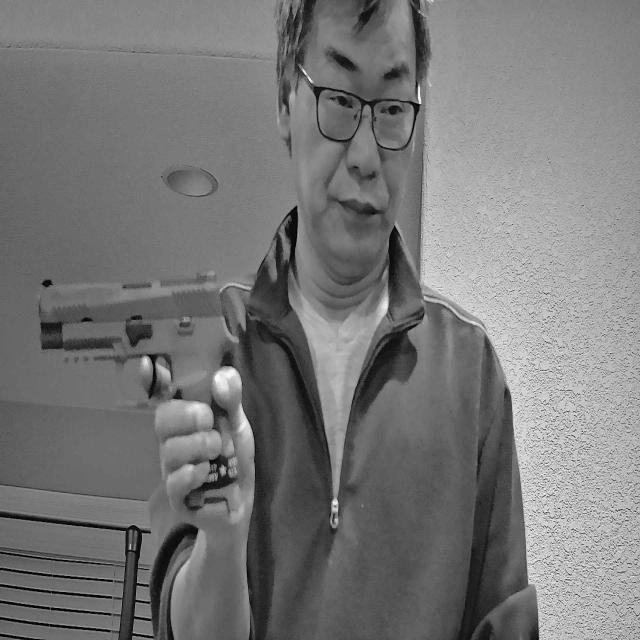Hand-Gun: (24, 267, 253, 488)
